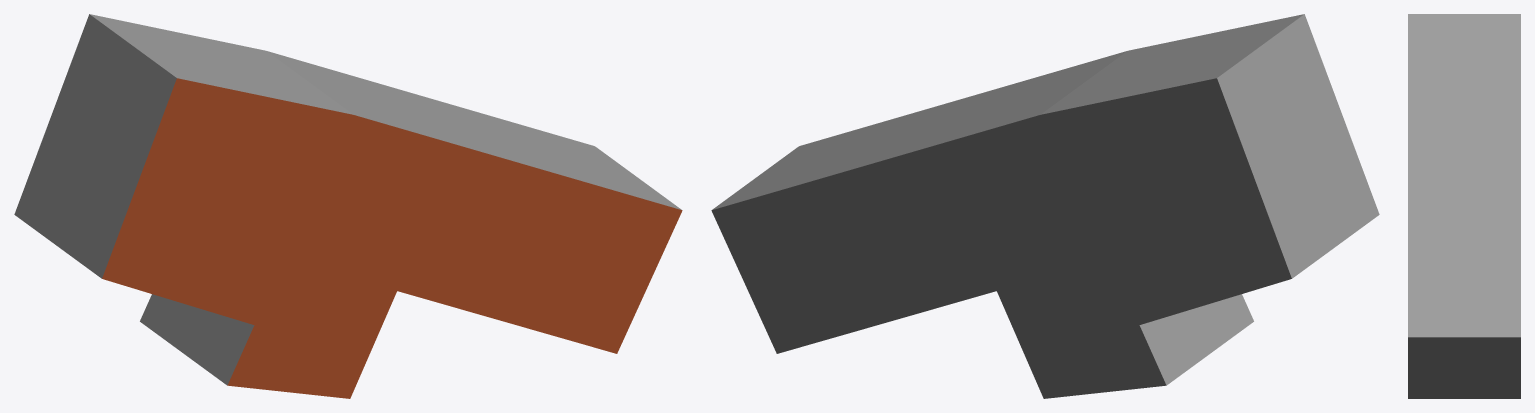
File: construction_3930_assumed_A_Casa_h6m.obj
The picture shows the model from 3 angles, left to right: view 1: azimuth 30°, elevation 25°; view 2: azimuth 150°, elevation 25°; view 3: azimuth 270°, elevation 25°; orthographic projection. The views are drawn at different scales.
Parts seen in each view (by area): view 1: construction_3930_assumed_A_Casa; view 2: construction_3930_assumed_A_Casa; view 3: construction_3930_assumed_A_Casa.
Boxes of the visible parts, box(x1,y1,x2,y2) form: construction_3930_assumed_A_Casa: box(14, 14, 682, 398); construction_3930_assumed_A_Casa: box(711, 14, 1379, 398); construction_3930_assumed_A_Casa: box(1408, 14, 1520, 398).
Size of the model in its own units: 22.95 by 14.47 by 6.
